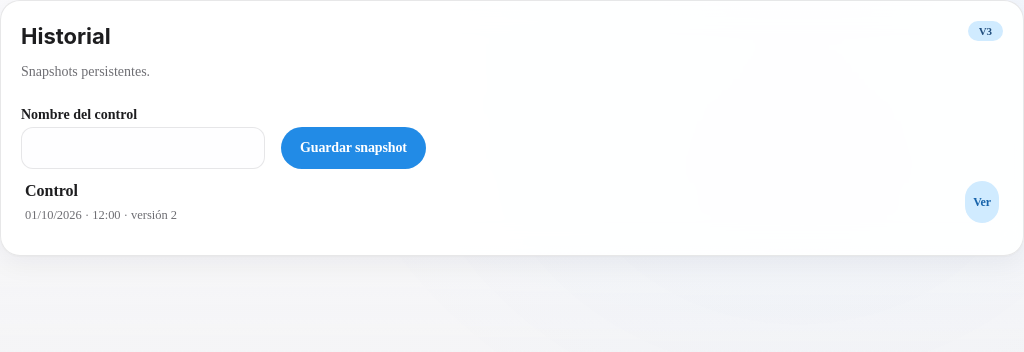
Test case: OdontogramHistory › confirma el snapshot guardado
Click the button "Guardar snapshot" at point(353, 148), box top-left (281, 127), bottom-right (426, 169)
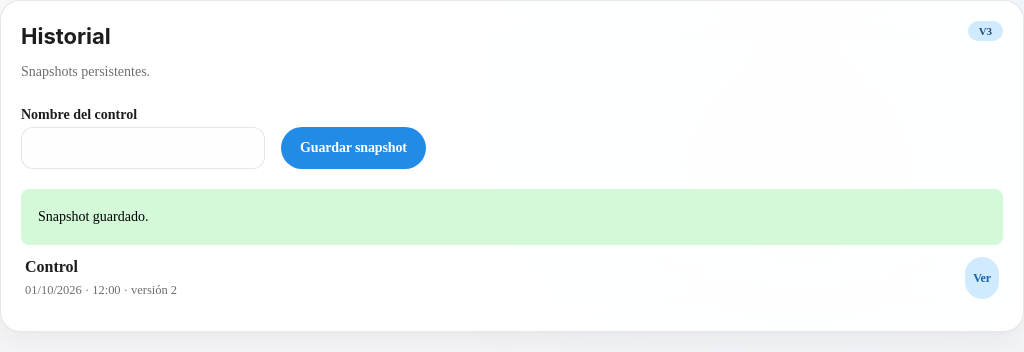
Result: the text "Snapshot guardado." is shown at top-left (38, 209), bottom-right (148, 224)
